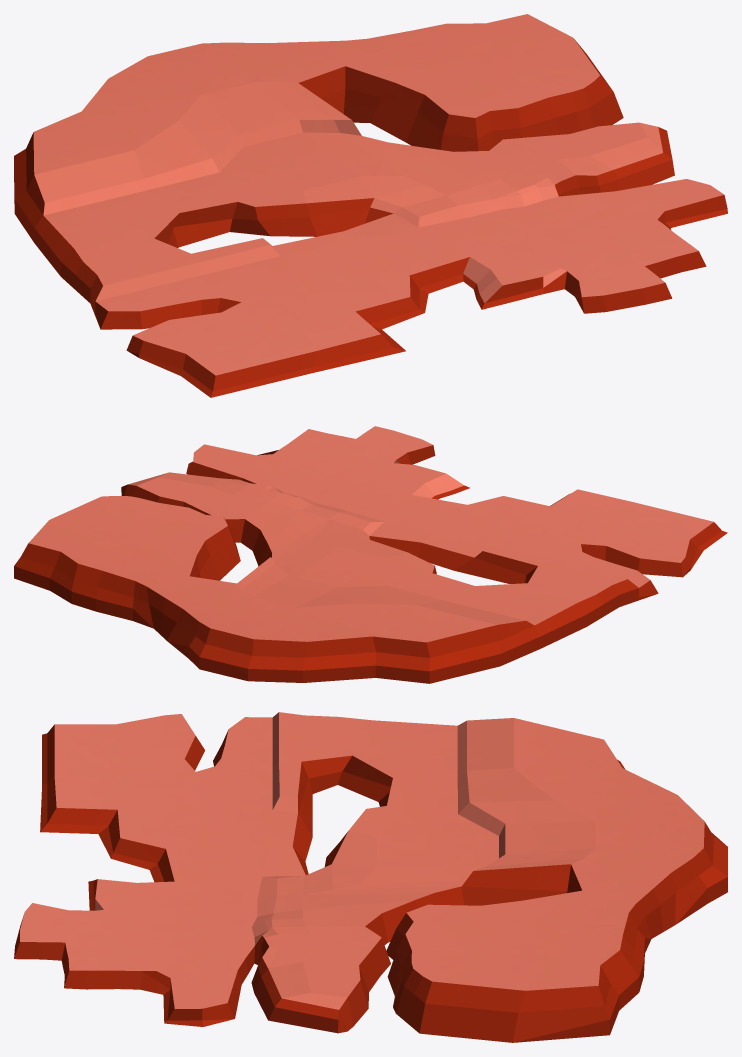
Rendered from hell_idle_base.fbx.
3 views of the same model, one above another, from view 1: azimuth 30°, elevation 25°; view 2: azimuth 150°, elevation 25°; view 3: azimuth 270°, elevation 25° (orthographic). The views are drawn at different scales.
Parts seen in each view (by area): view 1: Plane.002; view 2: Plane.002; view 3: Plane.002.
Boxes of the visible parts, box(x1,y1,x2,y2) form: Plane.002: box(14, 14, 727, 397); Plane.002: box(14, 426, 727, 683); Plane.002: box(14, 712, 727, 1042).
Bounding box in the file's own units: 31672 × 30281 × 2405.
Materials: 1 (1 with a texture image).
